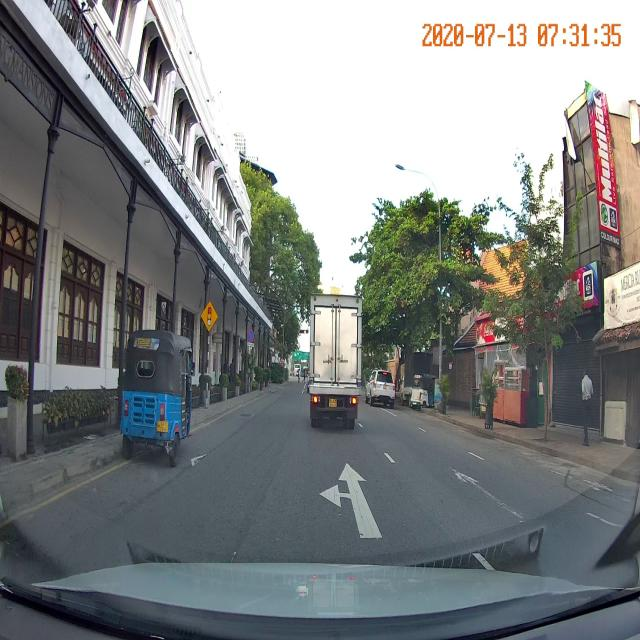forward_lft: (238, 451, 472, 542)
